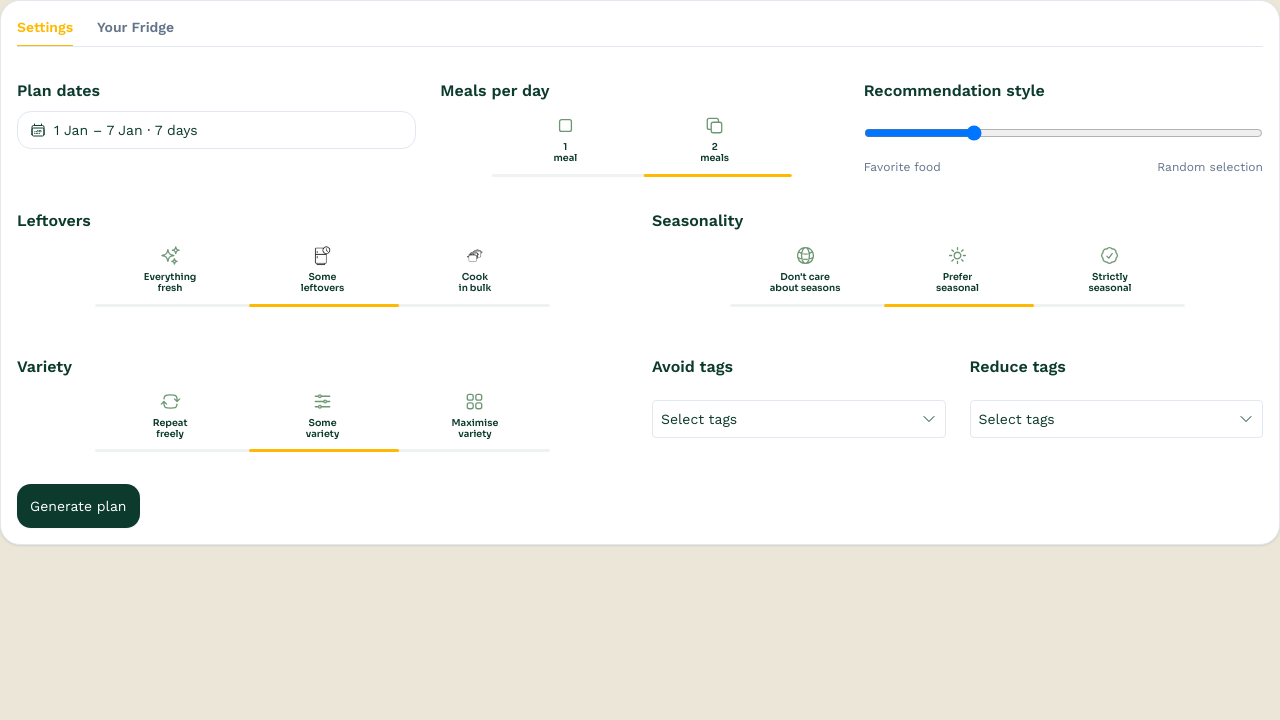
Scenario: resting on Plan dates explains what it does
Expected: the text "Plan dates" is shown, [17,81,100,100]
Hover over the text "Plan dates" at {"x": 217, "y": 128}, box [17,79,416,177]
Wait 2000 ms
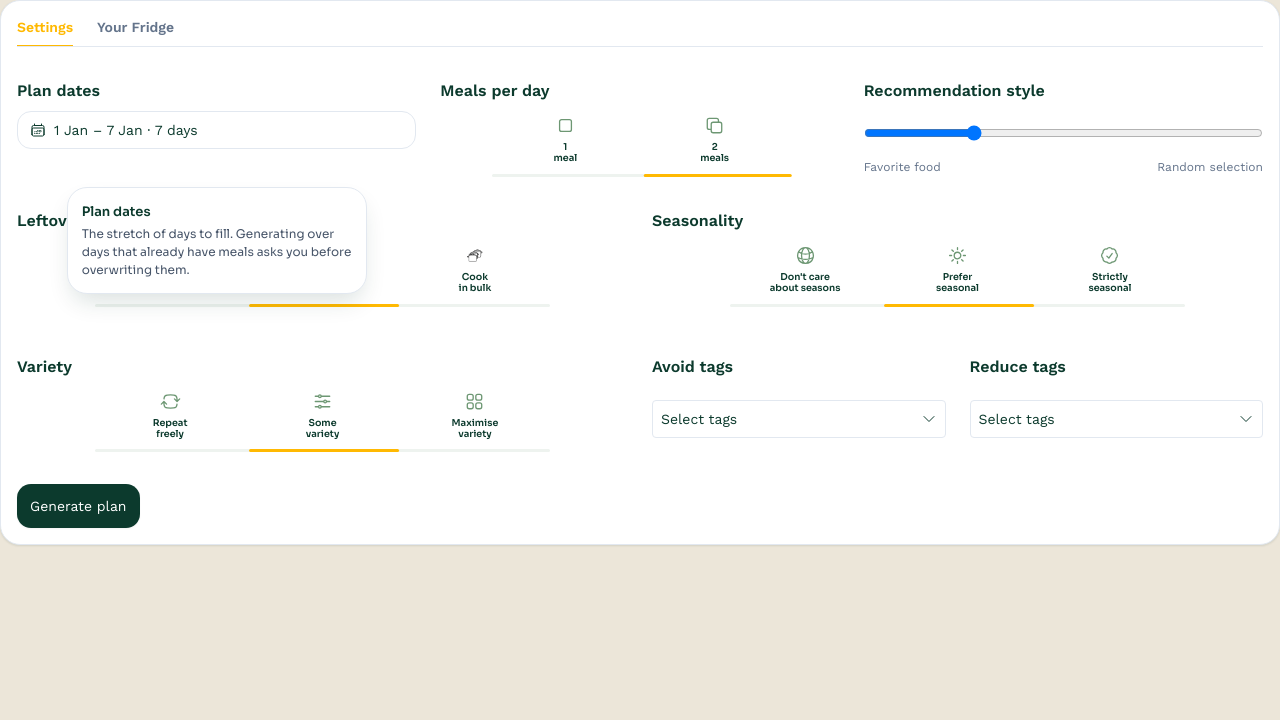
Now the tooltip shows "The stretch of days to fill. G", box [82,226,351,277]
